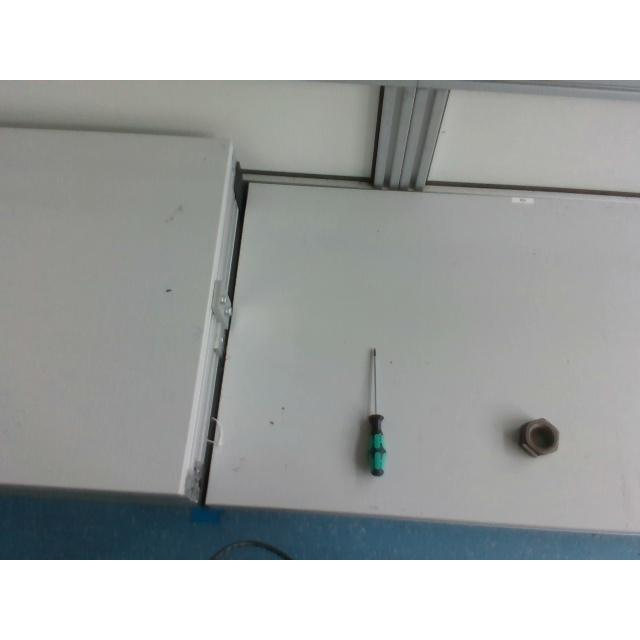M30: (518, 418, 558, 457)
Screwdriver: (364, 347, 388, 477)
